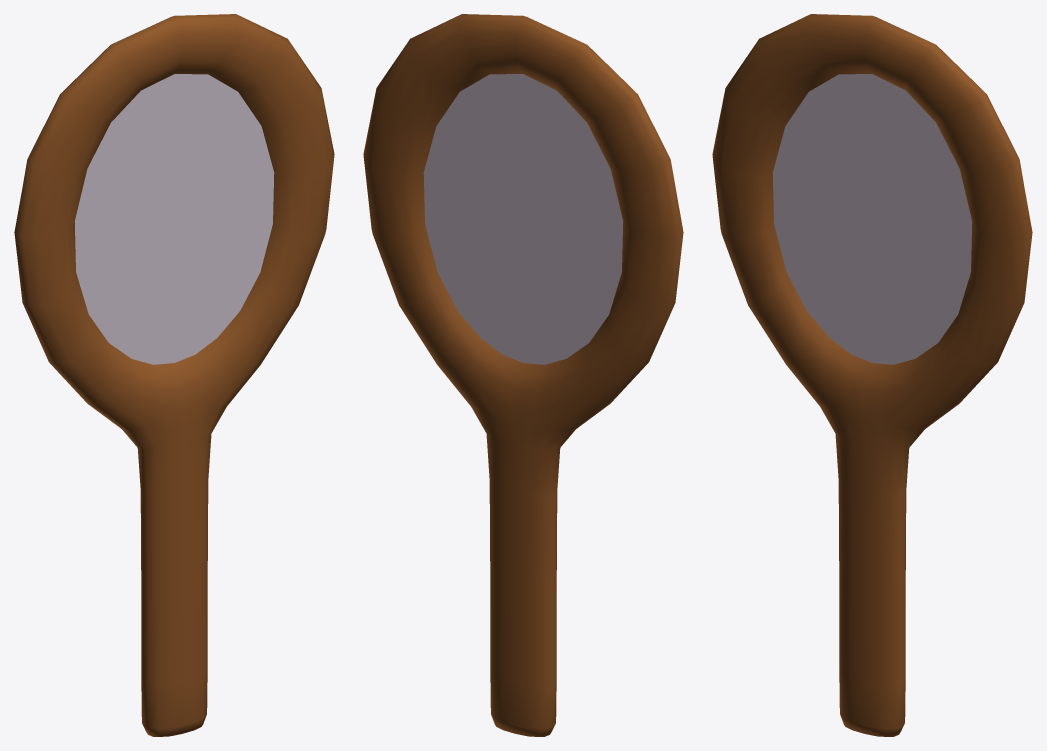
Rendered from mirror.glb.
The picture shows the model from 3 angles, left to right: view 1: azimuth 30°, elevation 25°; view 2: azimuth 150°, elevation 25°; view 3: azimuth 330°, elevation 25°; orthographic projection.
Parts seen in each view (by area): view 1: Mirror; view 2: Mirror; view 3: Mirror.
Part boxes in pixels (x1,y1,x2,y2): Mirror: (14, 14, 334, 736); Mirror: (363, 14, 683, 736); Mirror: (712, 14, 1032, 736).
Size of the model in its own units: 0.3529 by 0.7527 by 0.0354.
Materials: 1 (1 with a texture image).
